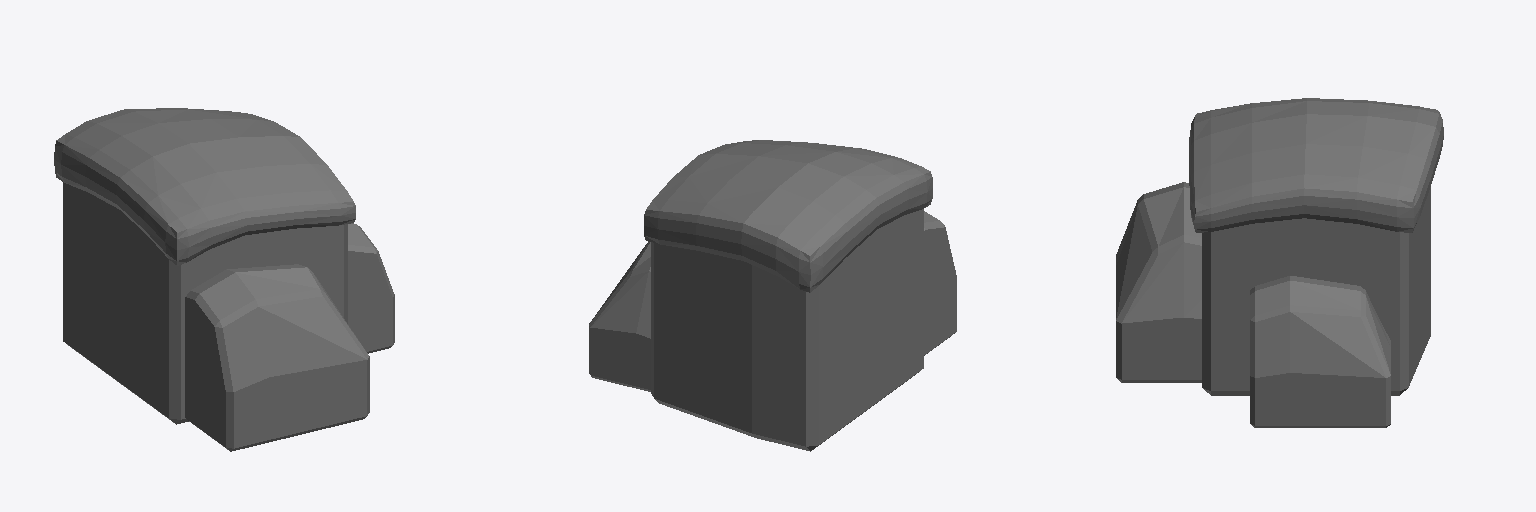
File: Rock02.obj
The picture shows the model from 3 angles: view 1: azimuth 30°, elevation 25°; view 2: azimuth 150°, elevation 25°; view 3: azimuth 270°, elevation 25°; orthographic projection.
Parts seen in each view (by area): view 1: polySurface6 group1, group1 polySurface4; view 2: polySurface6 group1, group1 polySurface4; view 3: polySurface6 group1, group1 polySurface4.
Boxes of the visible parts, x1=… form: polySurface6 group1: x1=63, y1=182, x2=394, y2=451; group1 polySurface4: x1=54, y1=108, x2=355, y2=265; polySurface6 group1: x1=589, y1=209, x2=956, y2=451; group1 polySurface4: x1=644, y1=140, x2=932, y2=292; polySurface6 group1: x1=1116, y1=182, x2=1430, y2=427; group1 polySurface4: x1=1189, y1=98, x2=1443, y2=232.
Bounding box in the file's own units: 13.21 × 11.56 × 14.88.